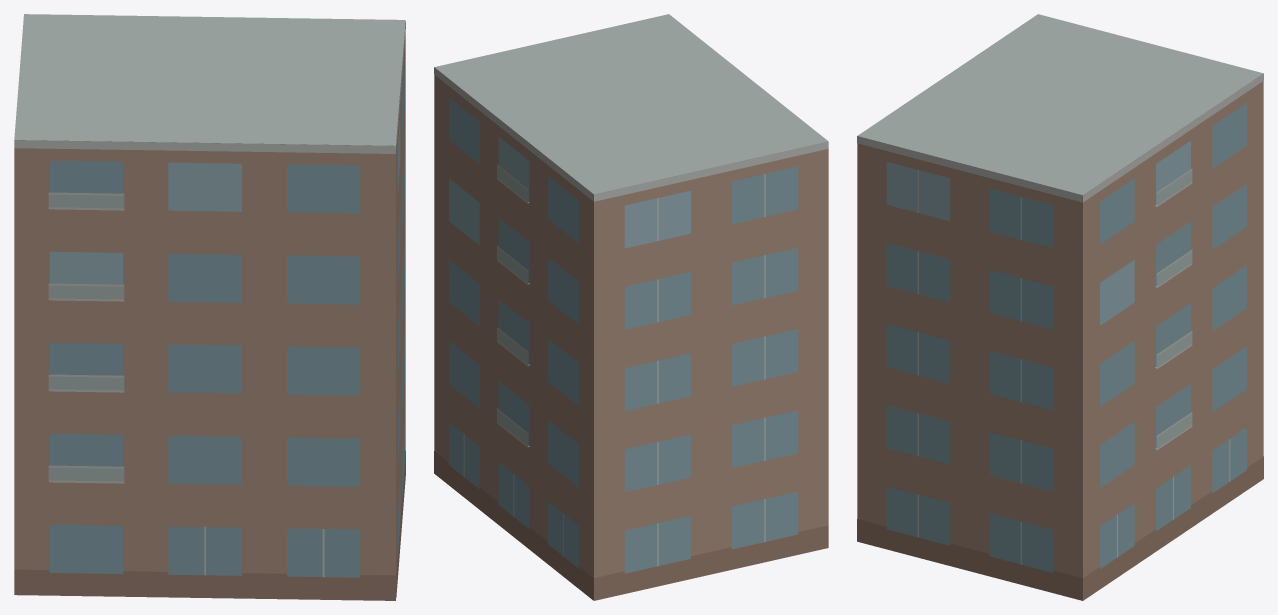
The model's file is survey-upis-32619564.glb.
3 views of the same model, side by side, from view 1: azimuth 30°, elevation 25°; view 2: azimuth 150°, elevation 25°; view 3: azimuth 270°, elevation 25° (orthographic). The views are drawn at different scales.
Visible parts, largest first — view 1: survey-upis-32619564.tmp; view 2: survey-upis-32619564.tmp; view 3: survey-upis-32619564.tmp.
Part boxes in pixels (<box>): survey-upis-32619564.tmp: <box>14,14,405,600</box>; survey-upis-32619564.tmp: <box>434,14,828,600</box>; survey-upis-32619564.tmp: <box>857,14,1263,600</box>.
Bounding box in the file's own units: 12.94 × 13.5 × 12.27.
